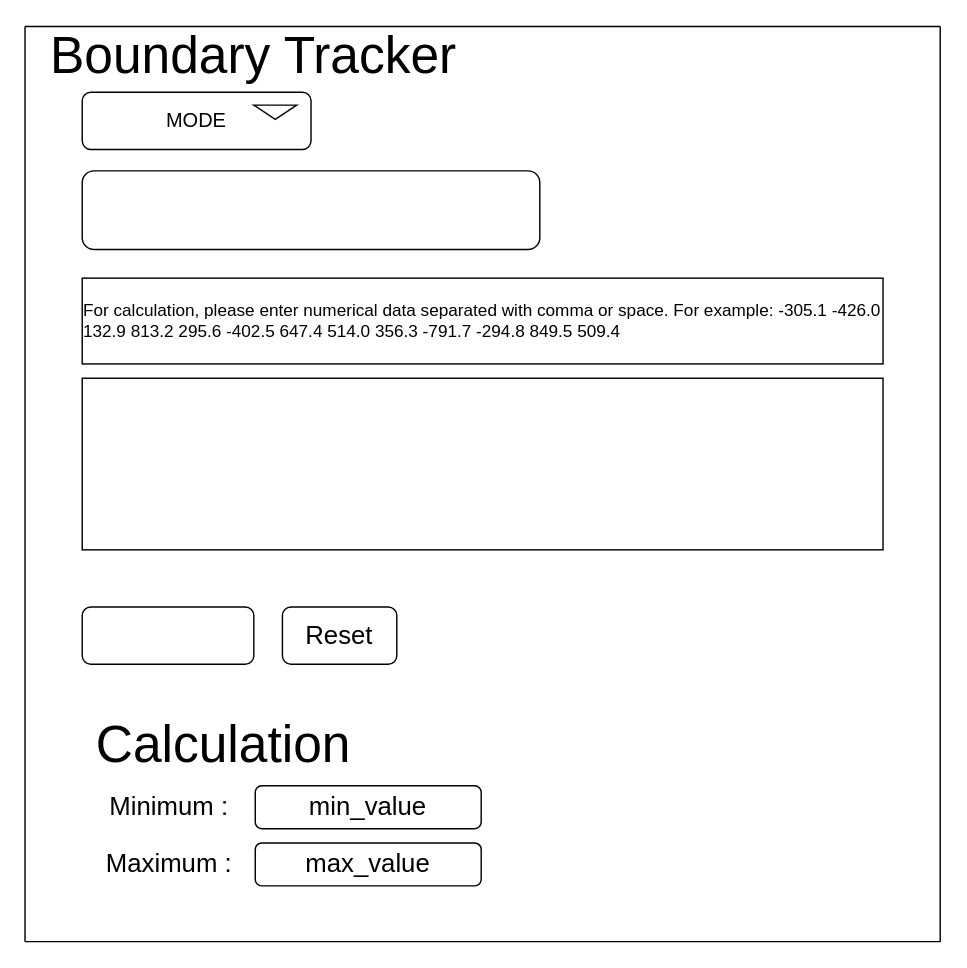
This 967x968 diagram has some shape labels left out. The box of each missing label's shape, as (x1, y1, x2, y2) in pixels:
Calculate: (81, 606, 254, 664)
mode_heading: (81, 169, 540, 250)
